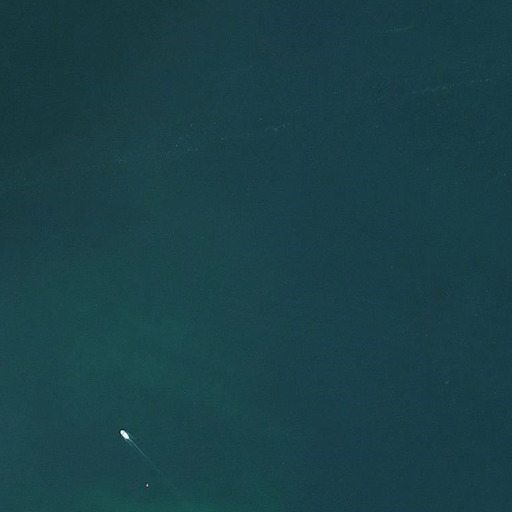ship: (118, 428, 133, 443)
